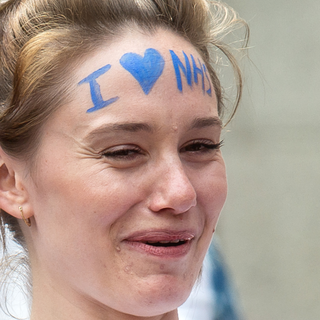eye: (100, 135, 155, 171), (171, 132, 227, 166)
